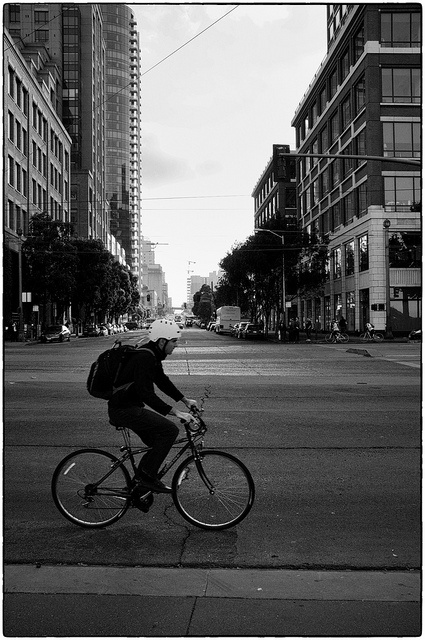non-vehicle: (51, 387, 255, 532), (358, 328, 384, 343), (325, 327, 349, 342)
